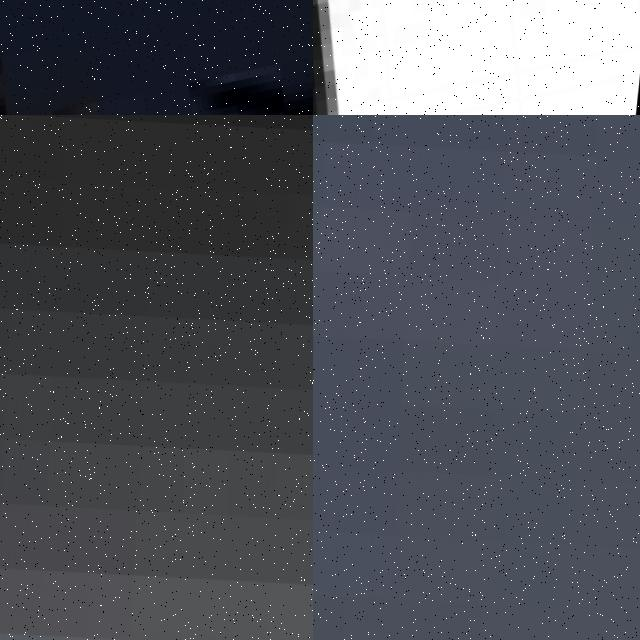drone: (313, 0, 640, 115), (0, 0, 313, 115)
